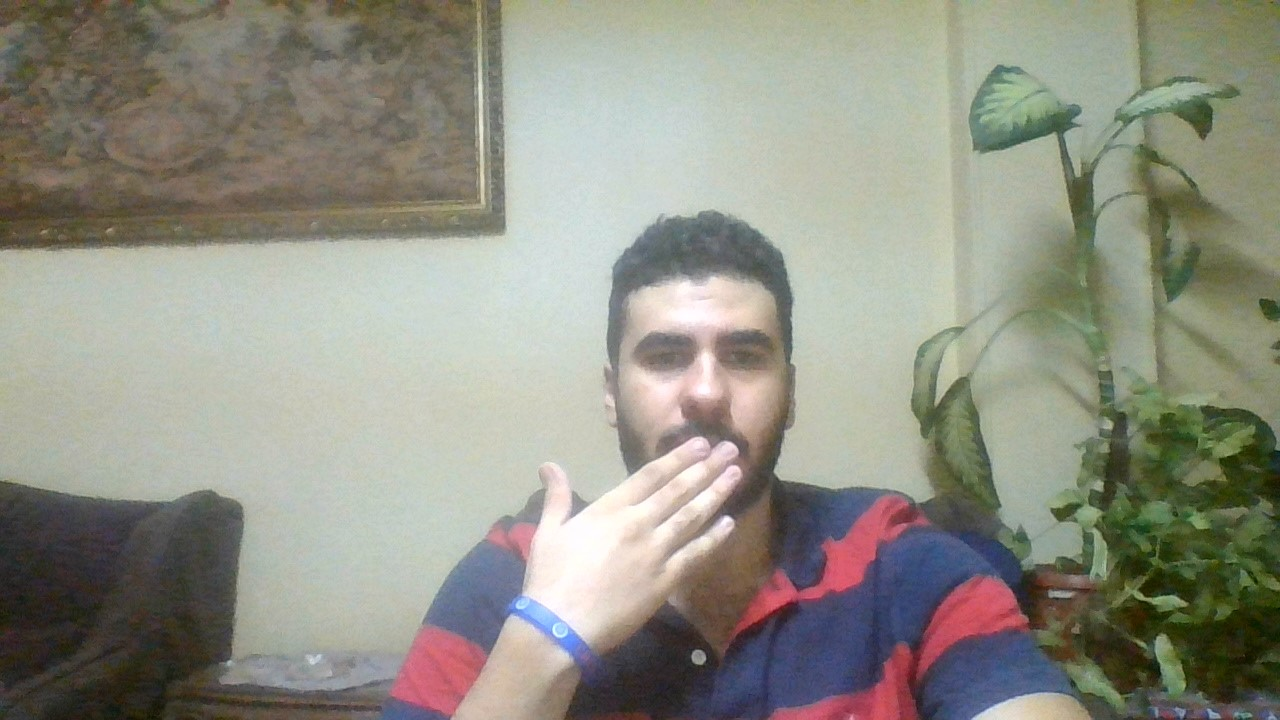thankyou: (521, 441, 737, 634)
